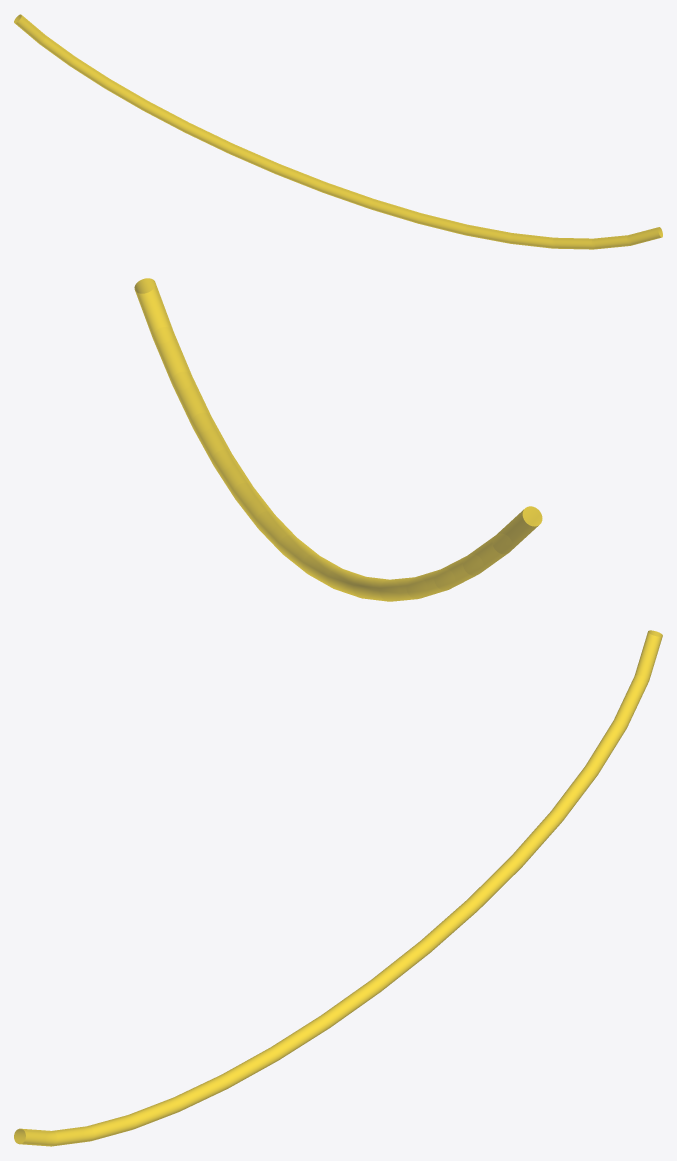
File: Event_17758602_track_148.fbx
3 renders of one model, top to bottom at view 1: azimuth 30°, elevation 25°; view 2: azimuth 150°, elevation 25°; view 3: azimuth 270°, elevation 25°, orthographic. The views are drawn at different scales.
Visible parts, largest first — view 1: Model; view 2: Model; view 3: Model.
Boxes of the visible parts, x1=… form: Model: x1=14, y1=14, x2=662, y2=249; Model: x1=134, y1=278, x2=542, y2=601; Model: x1=14, y1=630, x2=662, y2=1146.
Size of the model in its own units: 1.78 by 0.7329 by 1.66.
